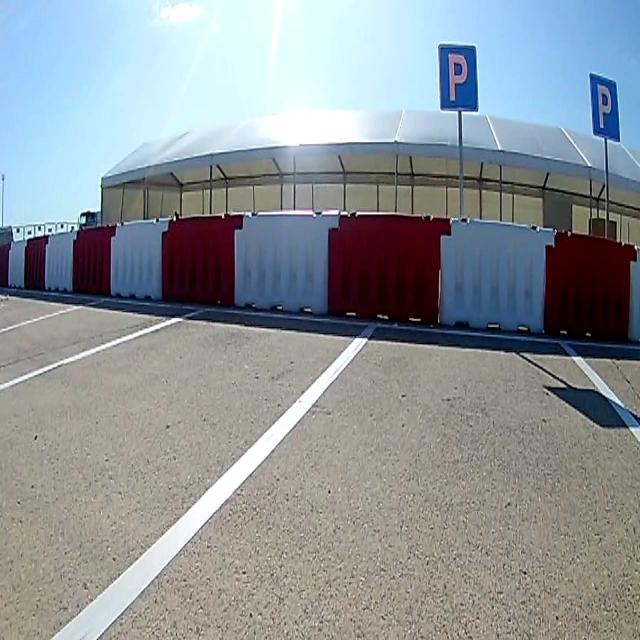park: (437, 44, 478, 110), (590, 73, 620, 142)
